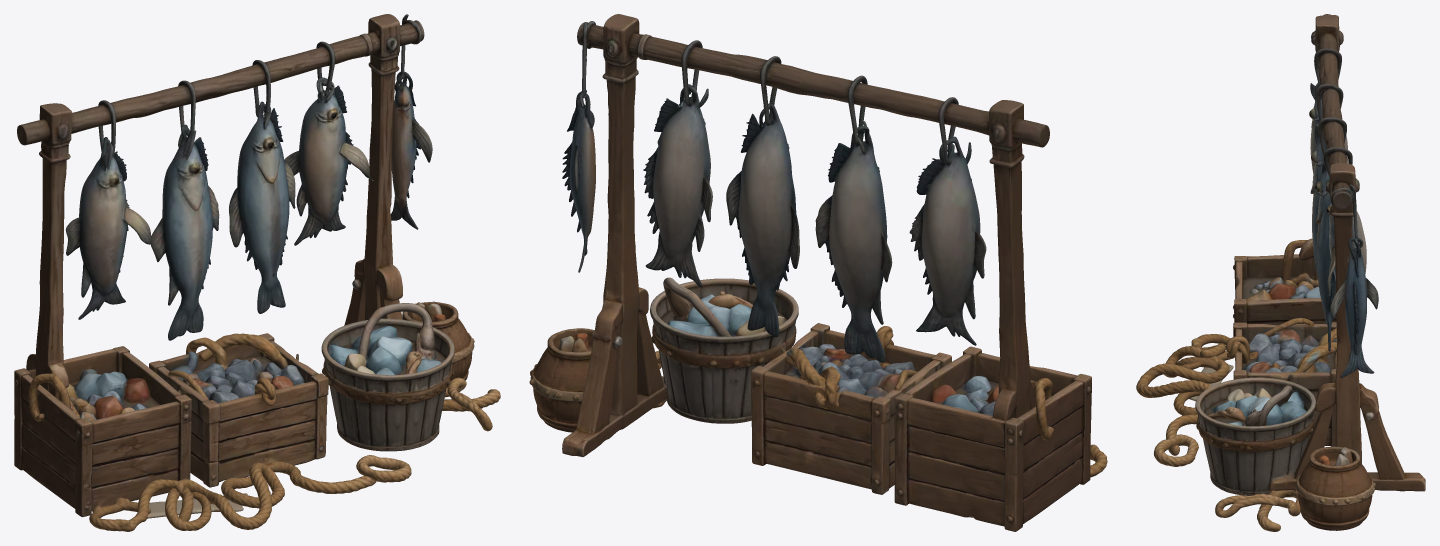
File: hanging_fish_display_3d_model-670c63ab.glb
3 views of the same model, side by side, from view 1: azimuth 30°, elevation 25°; view 2: azimuth 150°, elevation 25°; view 3: azimuth 270°, elevation 25° (orthographic). The views are drawn at different scales.
Visible parts, largest first — view 1: tripo_node_ce3942b2-a7f2-44ed-9a6f-1e62c9336e2c; view 2: tripo_node_ce3942b2-a7f2-44ed-9a6f-1e62c9336e2c; view 3: tripo_node_ce3942b2-a7f2-44ed-9a6f-1e62c9336e2c.
Part boxes in pixels (x1,y1,x2,y2): tripo_node_ce3942b2-a7f2-44ed-9a6f-1e62c9336e2c: (14, 14, 500, 531); tripo_node_ce3942b2-a7f2-44ed-9a6f-1e62c9336e2c: (529, 14, 1107, 531); tripo_node_ce3942b2-a7f2-44ed-9a6f-1e62c9336e2c: (1136, 14, 1425, 531).
Size of the model in its own units: 1 by 0.7867 by 0.6158.
Materials: 1 (1 with a texture image).
